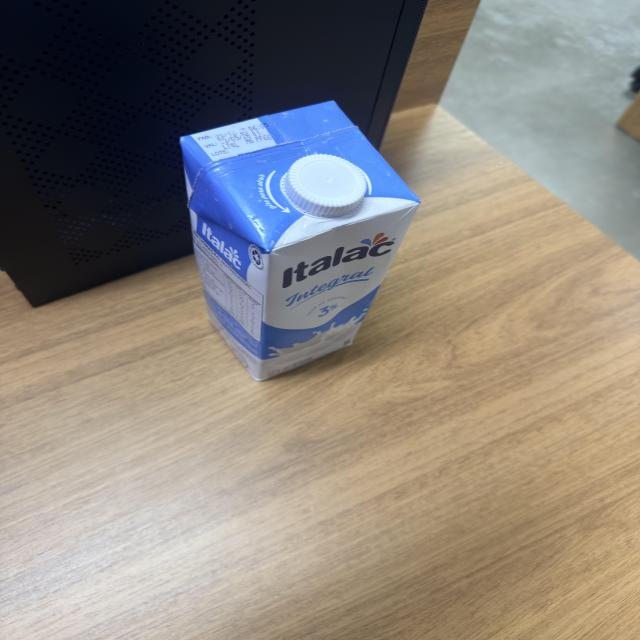Caixa de Leite: (179, 101, 418, 377)
